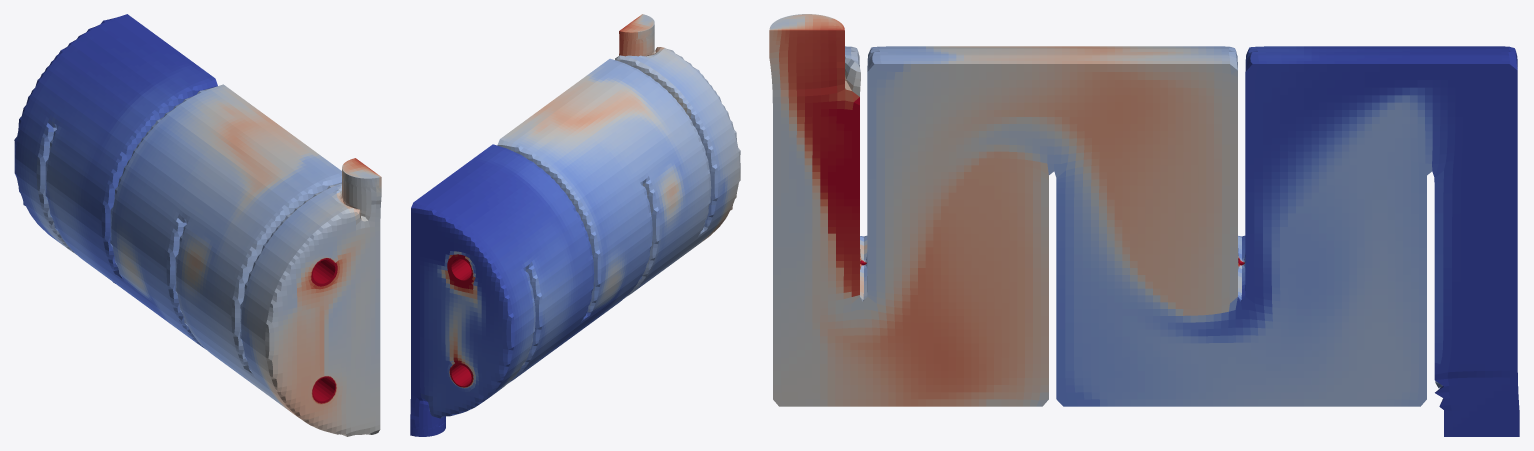
The picture shows the model from 3 angles, left to right: view 1: azimuth 30°, elevation 25°; view 2: azimuth 150°, elevation 25°; view 3: azimuth 270°, elevation 25°; orthographic projection. The views are drawn at different scales.
Visible parts, largest first — view 1: Shape_IndexedFaceSet; view 2: Shape_IndexedFaceSet; view 3: Shape_IndexedFaceSet.
Part boxes in pixels (x1=…): Shape_IndexedFaceSet: x1=14, y1=14, x2=381, y2=436; Shape_IndexedFaceSet: x1=410, y1=14, x2=740, y2=436; Shape_IndexedFaceSet: x1=769, y1=14, x2=1519, y2=436.
Bounding box in the file's own units: 25.37 × 59.33 × 99.2.
